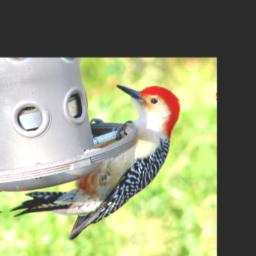Woodpecker: (0, 76, 198, 249)
